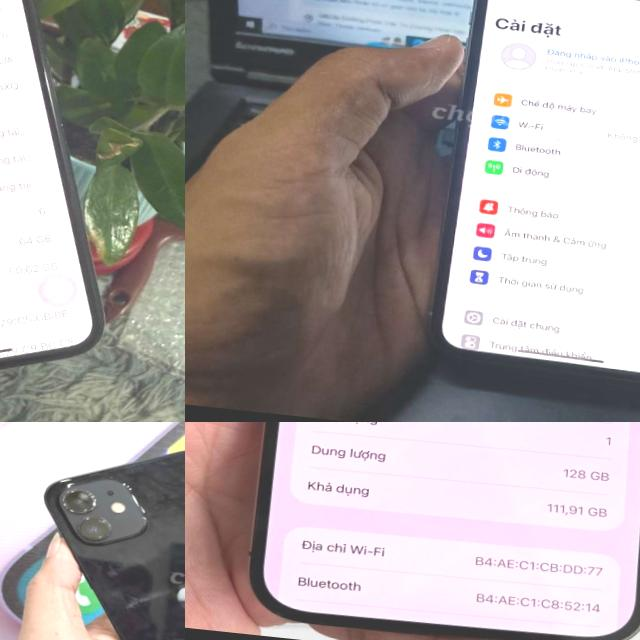gen_11: (0, 0, 149, 422)
gen_12_13: (11, 433, 185, 640)
gen_14: (229, 422, 640, 640)
gen_x_xs: (427, 0, 640, 390)
